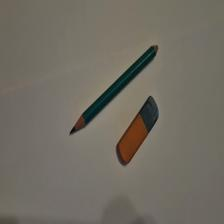eraser: (118, 96, 160, 165)
pencil: (70, 45, 159, 135)
